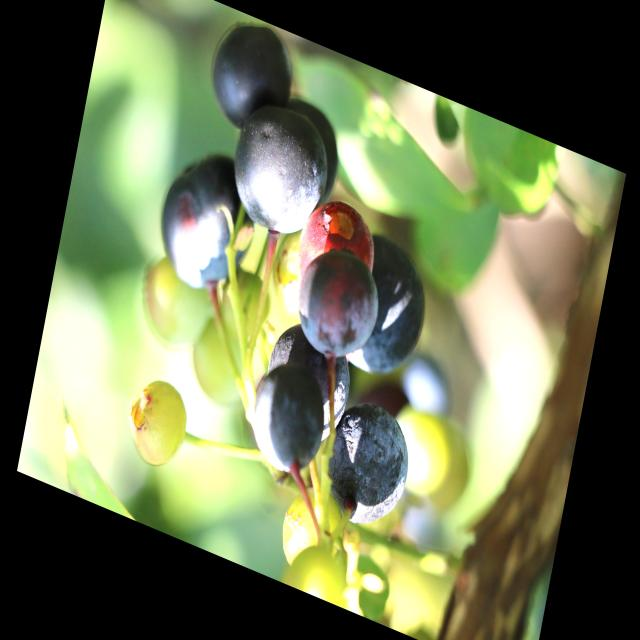blueberry: (148, 129, 268, 313), (221, 82, 340, 254), (336, 225, 441, 400), (316, 385, 422, 546), (254, 303, 364, 458), (198, 4, 306, 154), (284, 228, 388, 377), (240, 346, 338, 490), (272, 91, 349, 215), (390, 342, 465, 440)
blueberry-halfripe: (293, 188, 382, 302)
blueberry-unripe: (134, 254, 217, 360), (120, 366, 195, 478), (276, 482, 352, 586), (188, 319, 258, 417), (211, 261, 275, 354)
